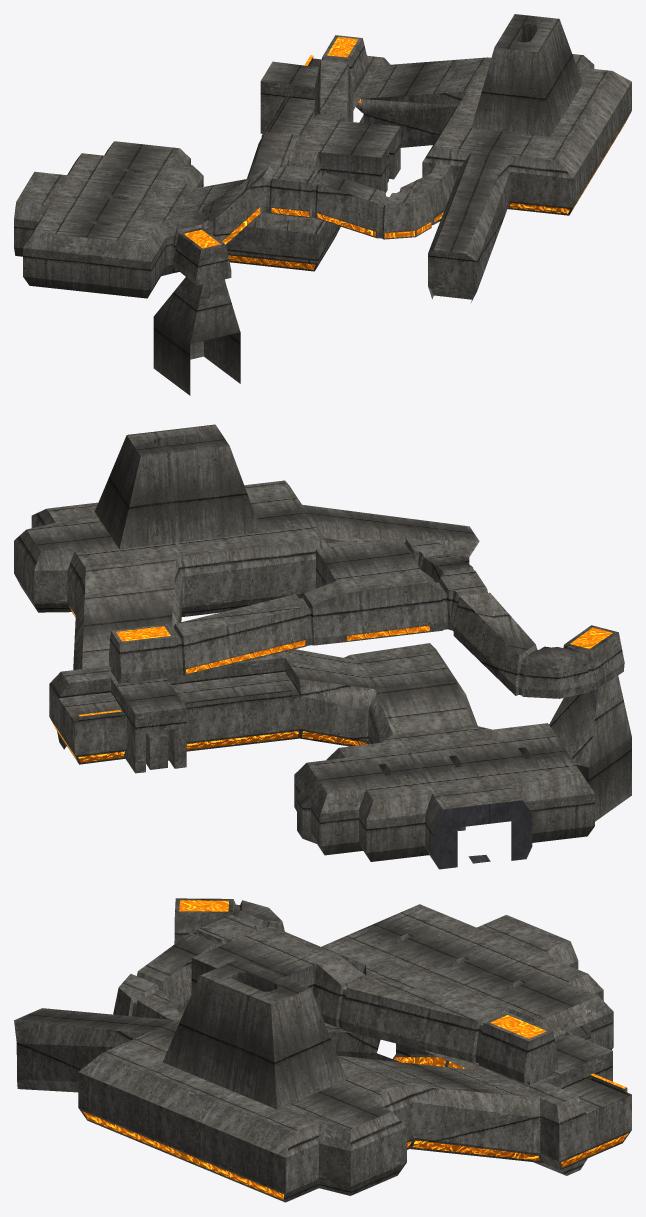
Rendered from sundayfixes.fbx.
3 views of the same model, one above another, from view 1: azimuth 30°, elevation 25°; view 2: azimuth 150°, elevation 25°; view 3: azimuth 270°, elevation 25° (orthographic). The views are drawn at different scales.
Visible parts, largest first — view 1: CoreCombat; view 2: CoreCombat; view 3: CoreCombat.
Part boxes in pixels (x1,y1,x2,y2): CoreCombat: (14,14,631,395); CoreCombat: (14,424,631,869); CoreCombat: (14,898,631,1202).
Size of the model in its own units: 15094 by 6470 by 11909.
3 materials, 3 textured.
